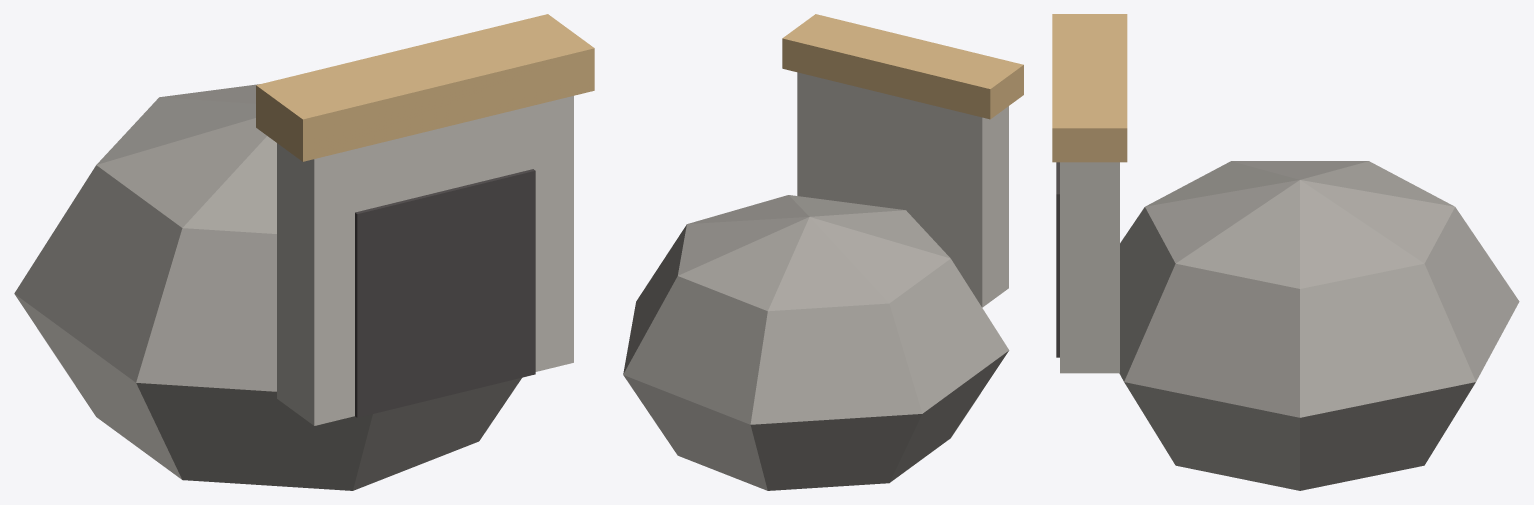
3 views of the same model, side by side, from view 1: azimuth 30°, elevation 25°; view 2: azimuth 150°, elevation 25°; view 3: azimuth 270°, elevation 25° (orthographic). The views are drawn at different scales.
Visible parts, largest first — view 1: body; view 2: body; view 3: body.
Part boxes in pixels (left/top/right/bottom): body: left=14, top=14, right=594, bottom=490; body: left=623, top=14, right=1023, bottom=490; body: left=1052, top=14, right=1519, bottom=490.
Bounding box in the file's own units: 5.7 × 5.8 × 6.22.
